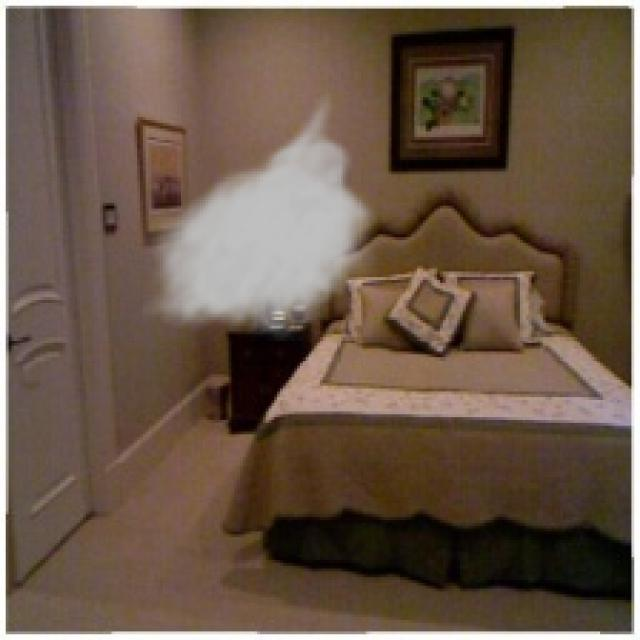smoke: (140, 89, 380, 340)
